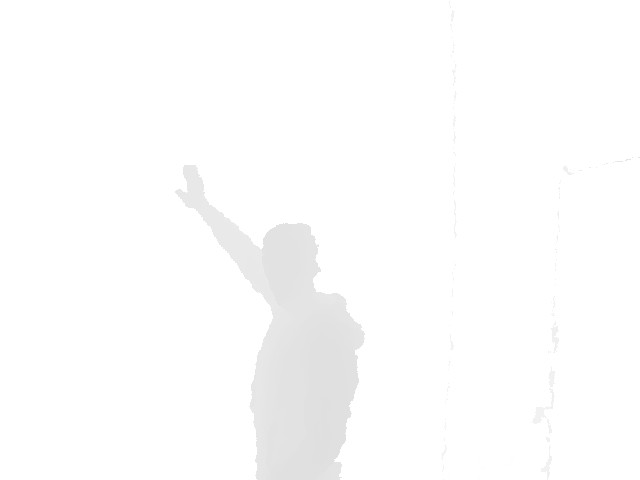hand: (175, 162, 216, 208)
head: (261, 223, 323, 302)
person: (174, 162, 365, 480)
